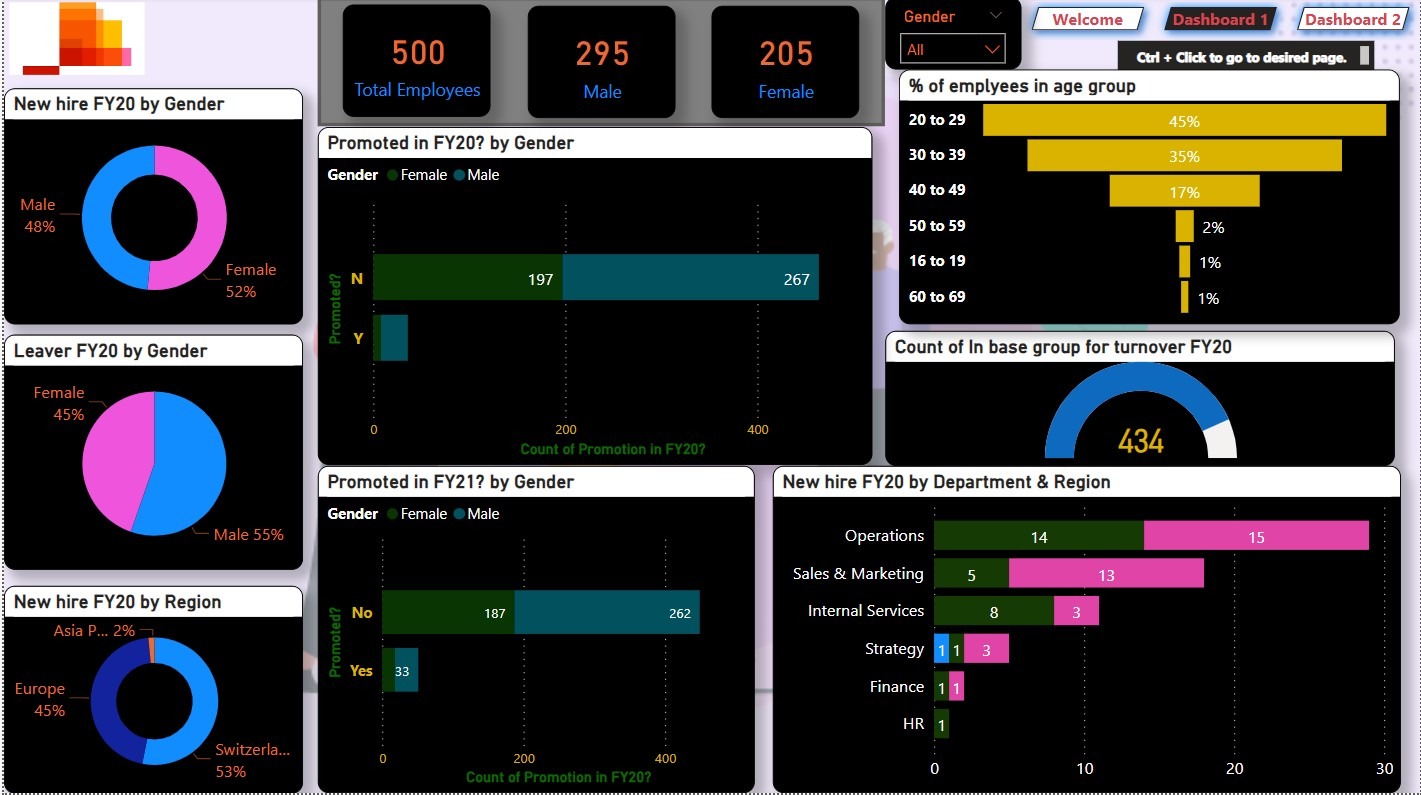

Layout of this report page (visuals, bound fields, positions):
{"tool":"powerbi","page":{"name":"Dashboard 1","canvas":[1280,720],"ordinal":1},"visuals":[{"type":"pageNavigator","box":[919.8,0,360.2,39.5],"z":0},{"type":"textbox","box":[1007.4,39.5,232.4,26.7],"z":1000},{"type":"image","box":[0,0,132.5,75.5],"z":2000},{"type":"slicer","fields":{"Values":["Pharma Group AG.Gender"]},"box":[797.2,0,122.9,65.6],"z":3000},{"type":"actionButton","box":[284,0,513.1,117],"z":4000},{"type":"card","fields":{"Values":["CountNonNull(Pharma Group AG.Employee ID)"]},"box":[306.7,7.2,133.7,101.4],"z":5000},{"type":"card","fields":{"Values":["Measure Table.No of men"]},"box":[473.8,8.4,133.7,101.4],"z":6000},{"type":"card","fields":{"Values":["Measure Table.Female"]},"box":[639.6,8.4,133.7,101.4],"z":7000},{"type":"donutChart","title":"New hire FY20  by Gender","fields":{"Category":["Pharma Group AG.Gender"],"Y":["CountNonNull(Pharma Group AG.New hire FY20?)"]},"box":[0,82.3,270.1,213.9],"z":8000},{"type":"pieChart","title":"Leaver FY20 by Gender","fields":{"Category":["Pharma Group AG.Gender"],"Y":["CountNonNull(Pharma Group AG.FY20 leaver?)"]},"box":[0,305.7,270.1,212.5],"z":9000},{"type":"gauge","fields":{"Y":["CountNonNull(Pharma Group AG.In base group for turnover FY20)"]},"box":[796.6,301.6,460.7,122],"z":10000},{"type":"barChart","title":"Promoted in FY20? by Gender","fields":{"Category":["Pharma Group AG.Promotion in FY20?"],"Y":["CountNonNull(Pharma Group AG.Promotion in FY20?)"],"Series":["Pharma Group AG.Gender"]},"box":[283.8,117.9,501.8,305.7],"z":11000},{"type":"barChart","title":"Promoted in FY21? by Gender","fields":{"Y":["CountNonNull(Pharma Group AG.Promotion in FY20?)"],"Series":["Pharma Group AG.Gender"],"Category":["Pharma Group AG.Promotion in FY21?"]},"box":[283.8,423.7,394.9,296.1],"z":12000},{"type":"funnel","title":"% of emplyees in age group ","fields":{"Category":["Pharma Group AG.Age group"],"Y":["Divide(CountNonNull(Pharma Group AG.Age group), ScopedEval(CountNonNull(Pharma Group AG.Age group), []))"]},"box":[809.7,66.1,452.6,230.5],"z":13000},{"type":"donutChart","title":"New hire FY20  by Region","fields":{"Category":["Pharma Group AG.Region group: nationality 1"],"Y":["CountNonNull(Pharma Group AG.Broad region group: nationality 1)"]},"box":[0,532,270.1,187.8],"z":14000},{"type":"barChart","title":"New hire FY20  by Department & Region","fields":{"Category":["Pharma Group AG.Last Department in FY20"],"Y":["CountNonNull(Pharma Group AG.Last Department in FY20)"],"Series":["Pharma Group AG.Broad region group: nationality 1"]},"box":[695.1,423.7,567.6,296.1],"z":15000}]}

Visuals, with their boxes in screenshot pixels (x1, y1, x2, y2), scaled from the page's 1280x720 canvas onto the 1421x795 screenshot:
pageNavigator: left=1021, top=0, right=1420, bottom=44
textbox: left=1118, top=44, right=1376, bottom=73
image: left=0, top=0, right=147, bottom=83
slicer - Pharma Group AG.Gender: left=885, top=0, right=1021, bottom=72
actionButton: left=315, top=0, right=885, bottom=129
card - CountNonNull(Pharma Group AG.Employee ID): left=340, top=8, right=489, bottom=120
card - Measure Table.No of men: left=526, top=9, right=674, bottom=121
card - Measure Table.Female: left=710, top=9, right=858, bottom=121
"New hire FY20  by Gender" donutChart: left=0, top=91, right=300, bottom=327
"Leaver FY20 by Gender" pieChart: left=0, top=338, right=300, bottom=572
gauge - CountNonNull(Pharma Group AG.In base group for turnover FY20): left=884, top=333, right=1396, bottom=468
"Promoted in FY20? by Gender" barChart: left=315, top=130, right=872, bottom=468
"Promoted in FY21? by Gender" barChart: left=315, top=468, right=753, bottom=794
"% of emplyees in age group " funnel: left=899, top=73, right=1401, bottom=327
"New hire FY20  by Region" donutChart: left=0, top=587, right=300, bottom=794
"New hire FY20  by Department & Region" barChart: left=772, top=468, right=1402, bottom=794
